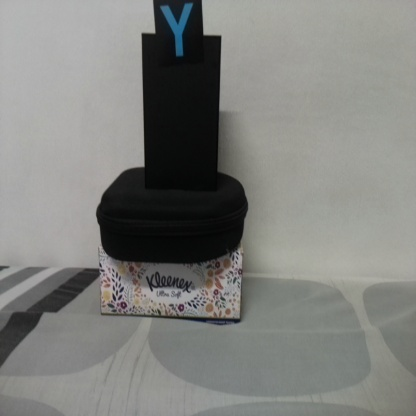id_14: (154, 1, 203, 63)
